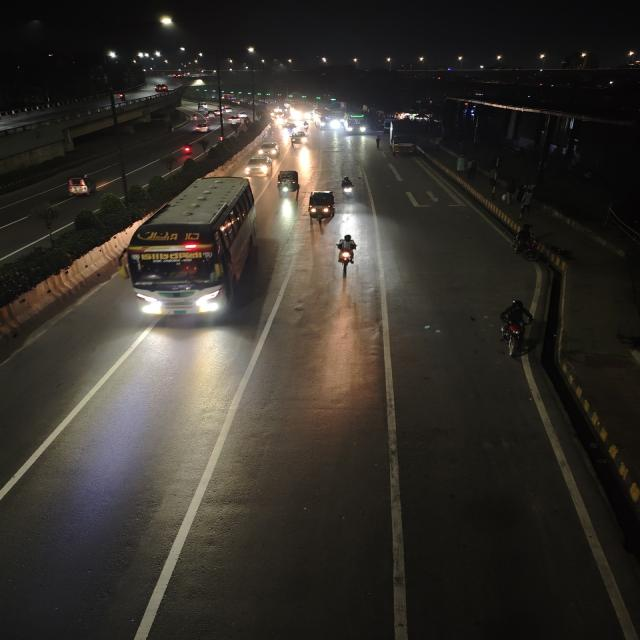bus: (127, 178, 253, 328), (344, 114, 370, 135), (316, 109, 338, 131), (291, 100, 314, 121)
car: (244, 157, 274, 182), (255, 141, 281, 157), (288, 132, 312, 146), (194, 122, 211, 134), (153, 83, 170, 91), (228, 116, 240, 126)
cng: (303, 188, 339, 230), (58, 174, 98, 200), (272, 169, 302, 198), (209, 110, 216, 119)
motorcycle: (491, 293, 536, 356), (331, 228, 367, 286), (334, 173, 360, 198), (180, 142, 192, 159), (283, 123, 297, 133), (302, 119, 310, 132), (118, 91, 126, 104), (192, 113, 198, 122), (205, 114, 211, 123)
pedestrian: (372, 134, 384, 152)
truck: (386, 121, 419, 160)
